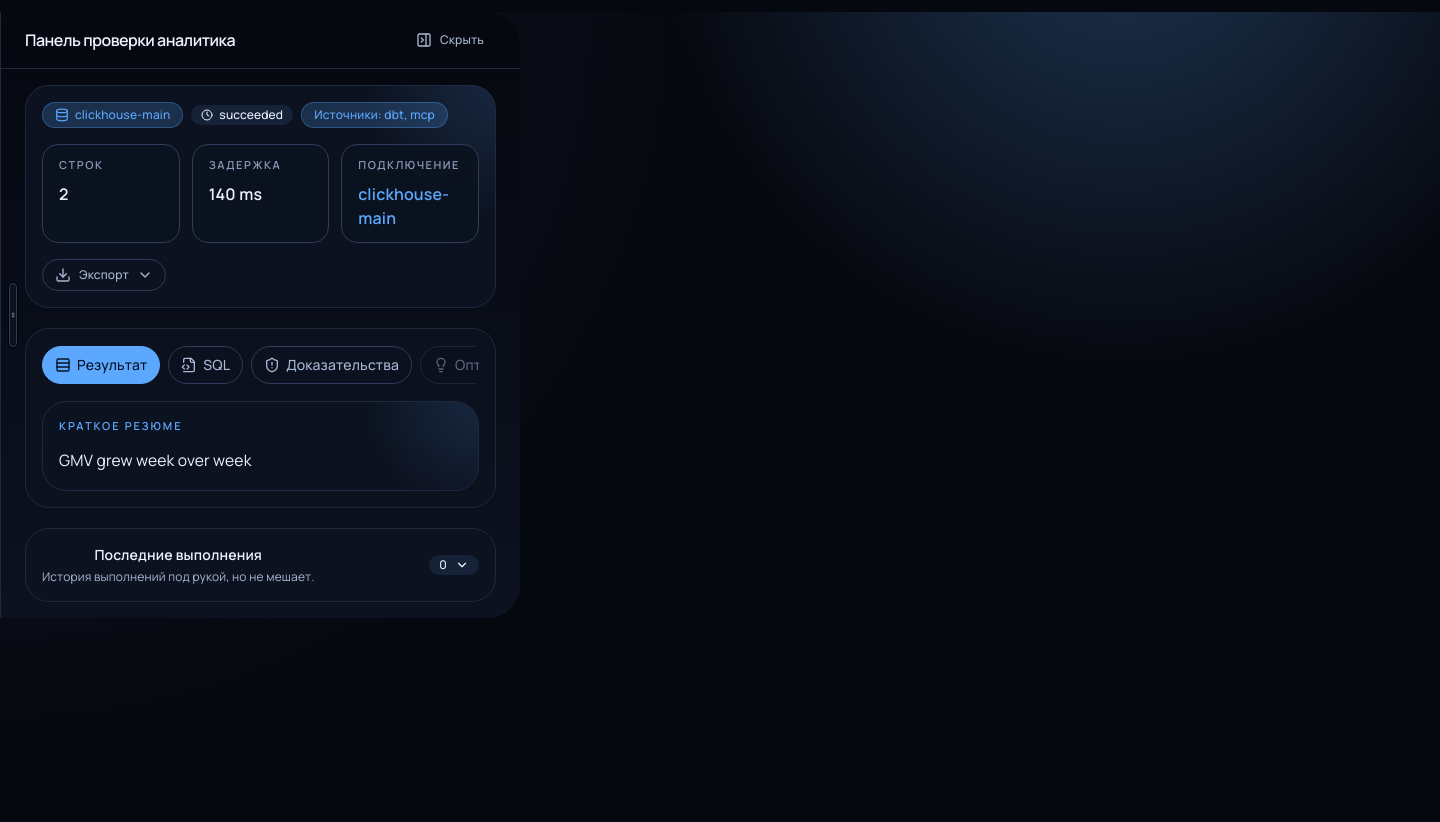
ResultSurface › keeps report export formats behind one menu button
Check: the menu item "html" is not shown
Step 1. Click the button "Экспорт" → (104, 274), box [42,258,166,290]
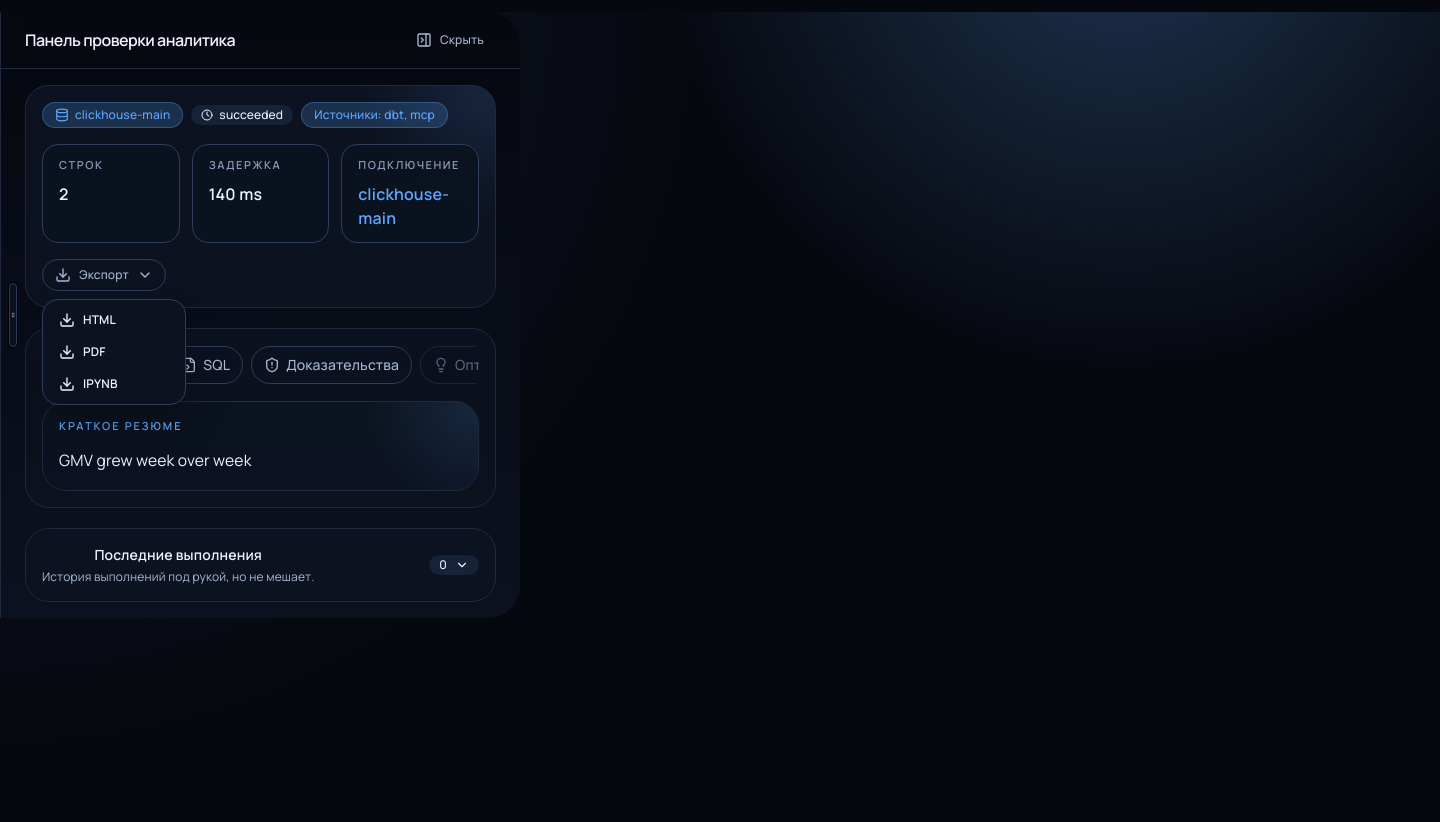
Check: the menu item "HTML" is shown, box [47,304,181,336]
Check: the menu item "PDF" is shown, box [47,336,181,368]
Check: the menu item "IPYNB" is shown, box [47,368,181,400]
